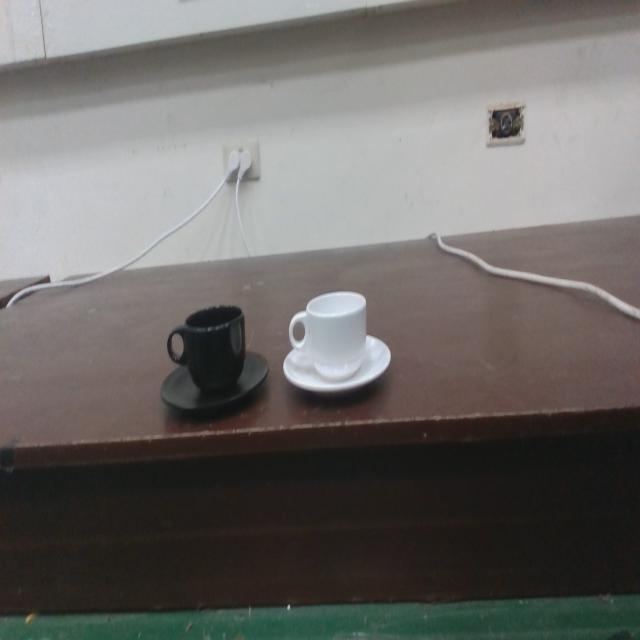black: (158, 303, 272, 420)
white: (281, 285, 393, 400)
